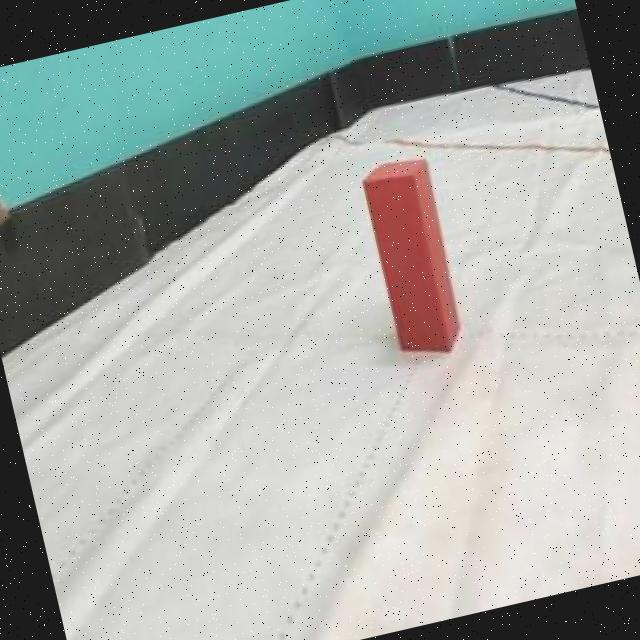redbox: (356, 149, 470, 364)
